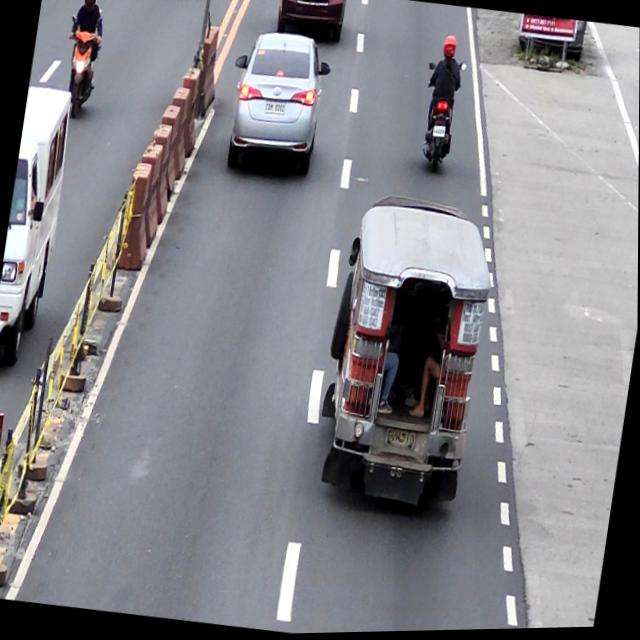Car: (222, 28, 333, 189), (274, 0, 350, 40)
Jeep: (314, 192, 502, 515)
License-Plate: (383, 424, 420, 457), (264, 99, 287, 117)
Motorcycle: (416, 34, 471, 174)
